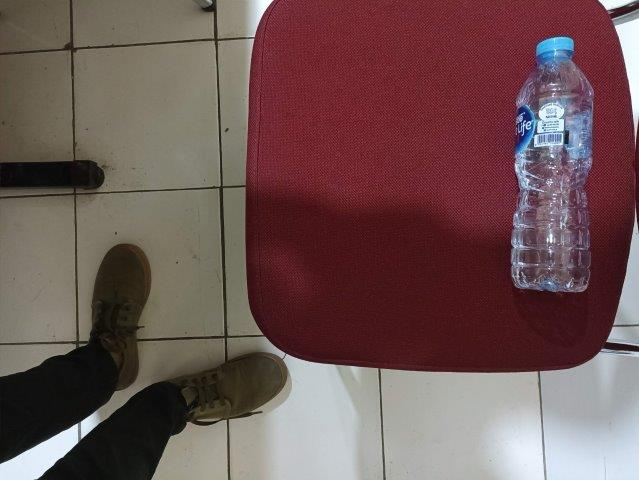botolplastik: (505, 38, 591, 294)
